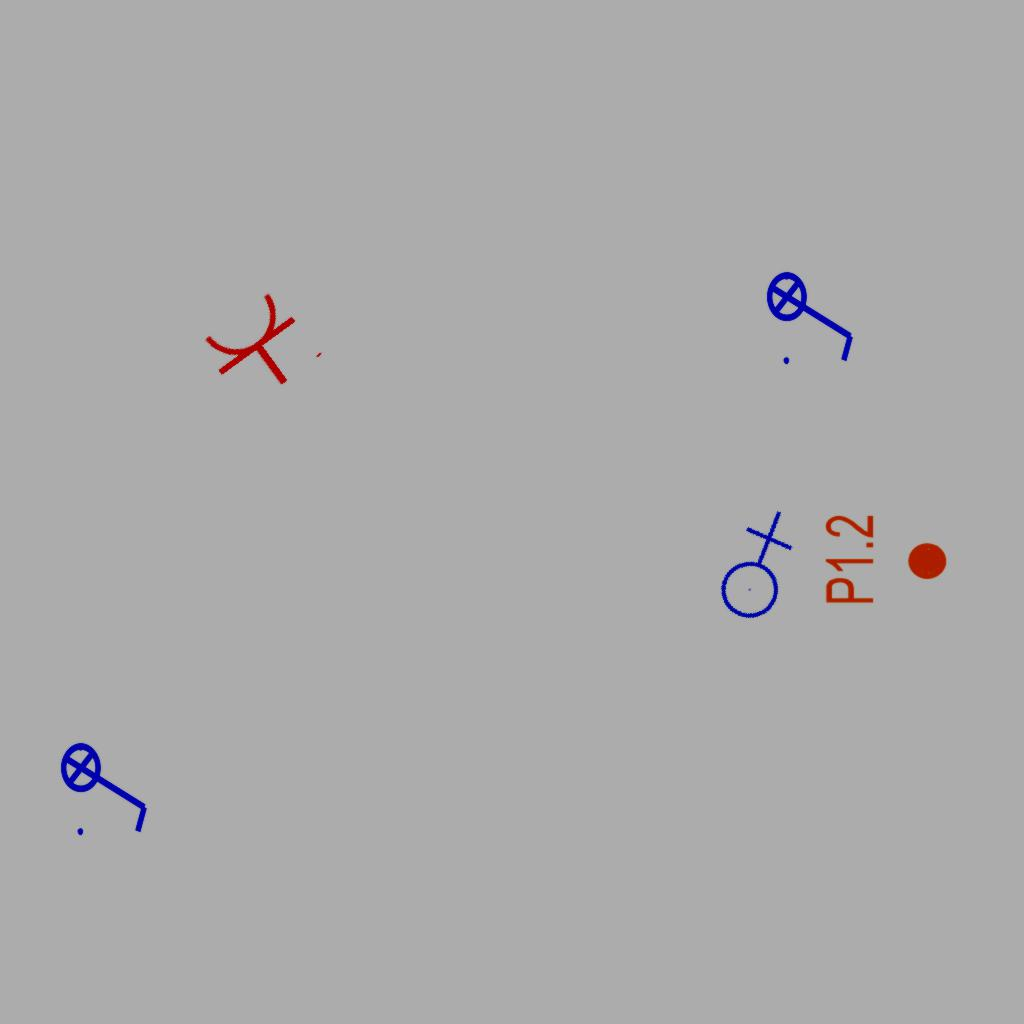Ausschalter_beleuchtet: (765, 258, 861, 370), (59, 729, 155, 841)
Downlight_LED_Einbauleuchten_Flur: (822, 513, 950, 606)
Elektroanschluss_allgemein_230V_Geraeteanschlussdose_230V: (688, 505, 819, 633)
Schukosteckdose_einfach: (195, 283, 328, 413)
